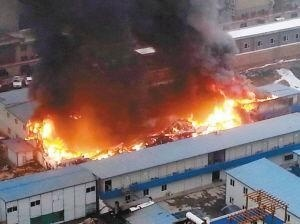fire: (26, 112, 145, 161), (183, 84, 271, 133)
